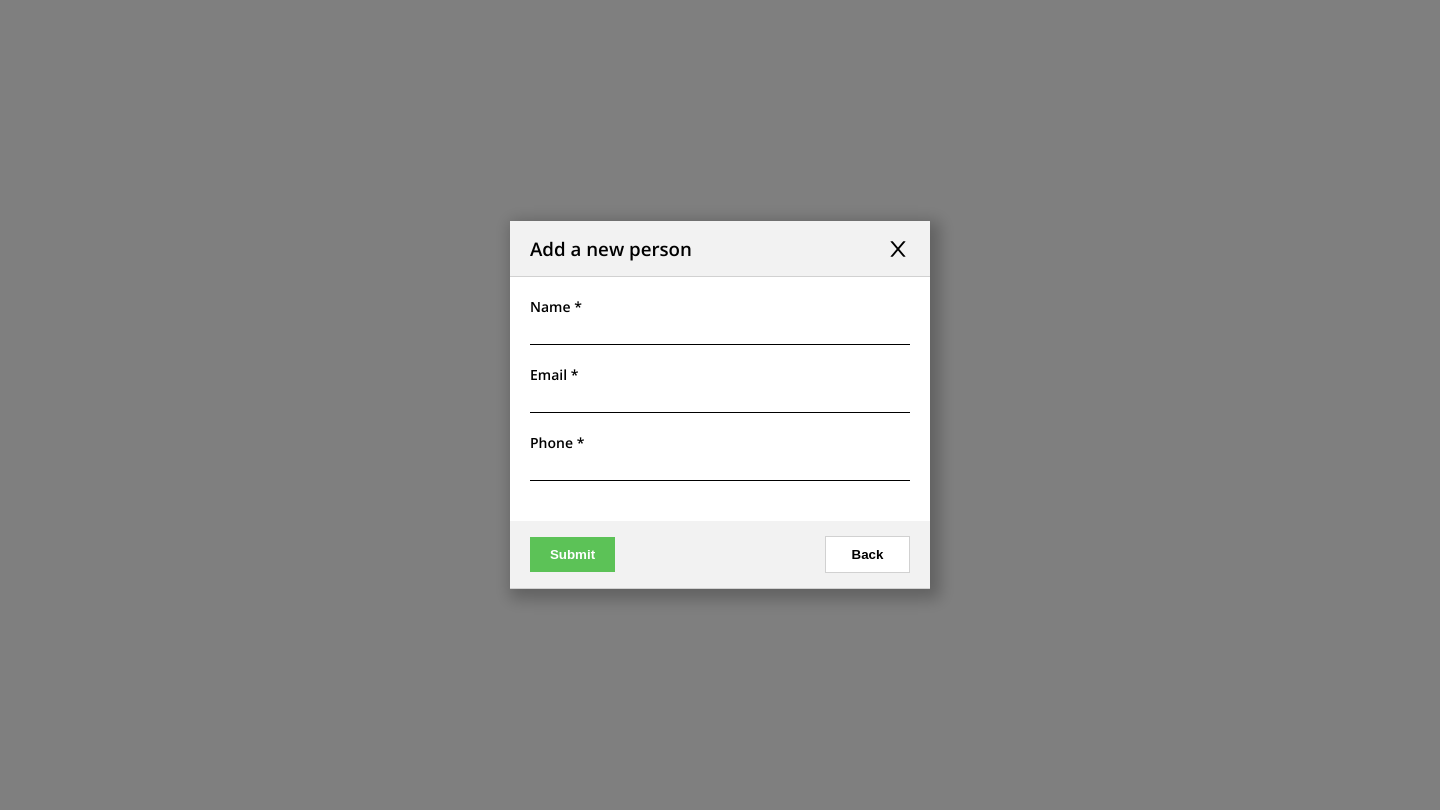
it: AddPersonModal › should have correct values
The width and height of the screenshot is (1440, 810).
In the field labelled "Name *": [720, 330] box [530, 316, 910, 345], type "John Doe"
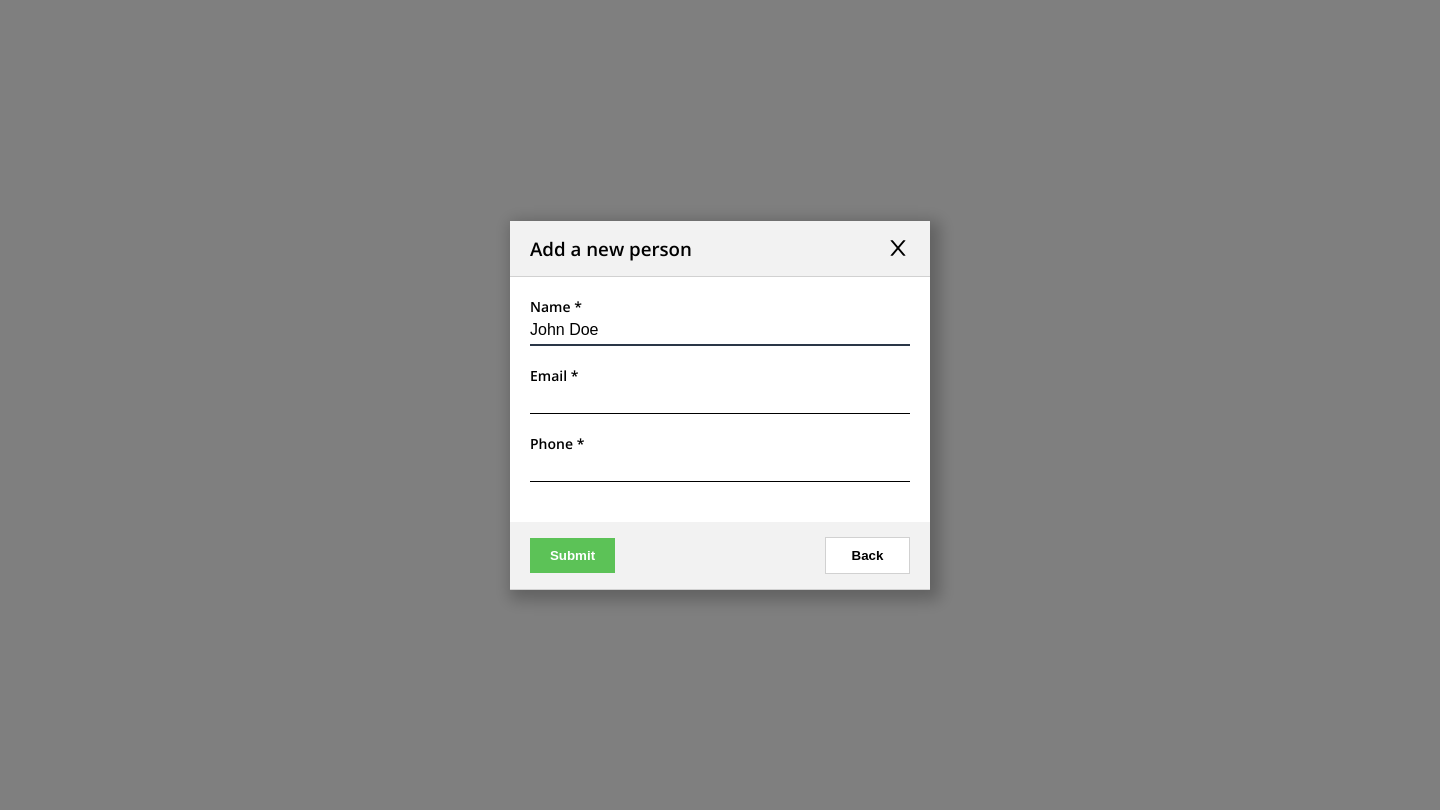
In the field labelled "Email *": [720, 399] box [530, 384, 910, 414], type "johndoe@email.com"
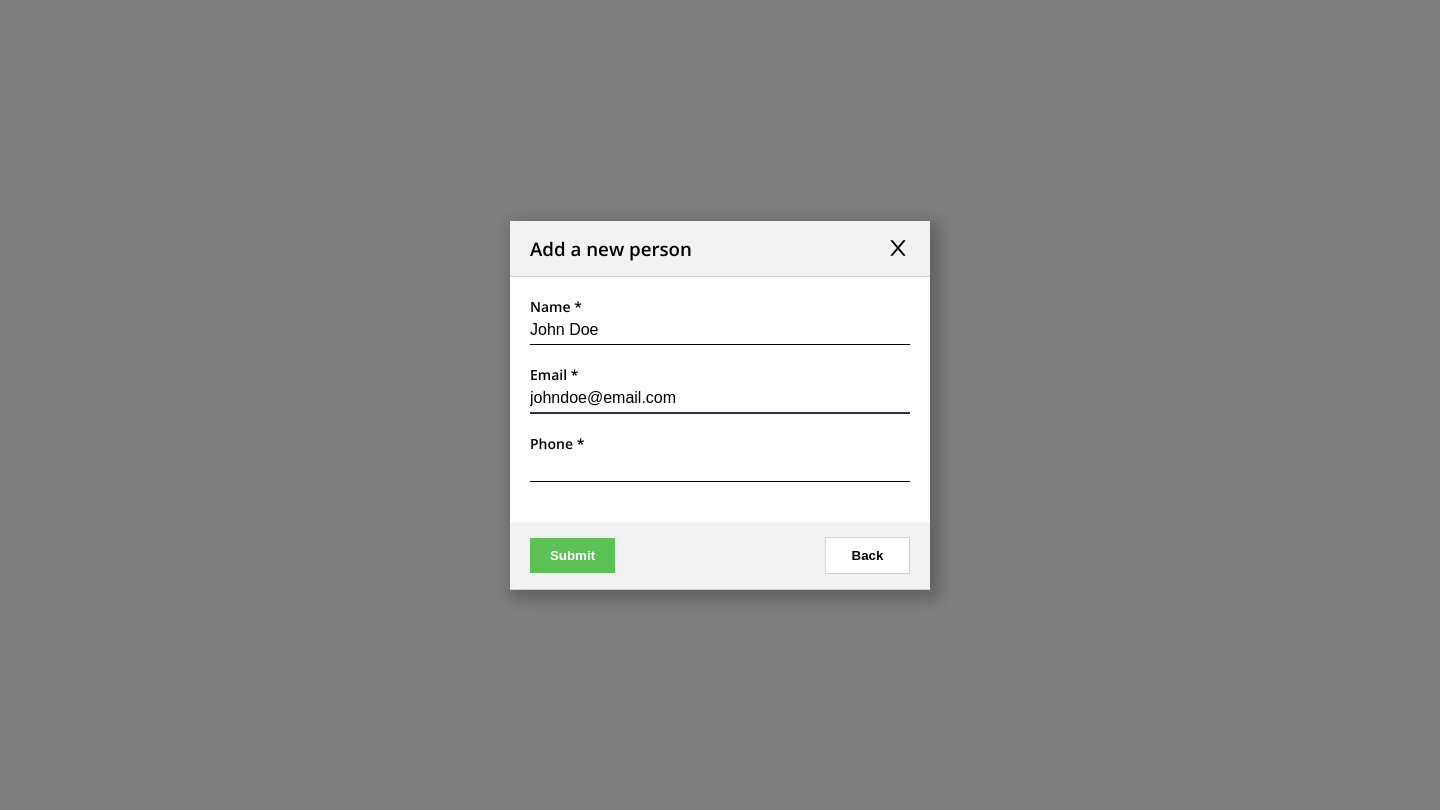
In the field labelled "Phone *": [720, 467] box [530, 452, 910, 482], type "1112223333"
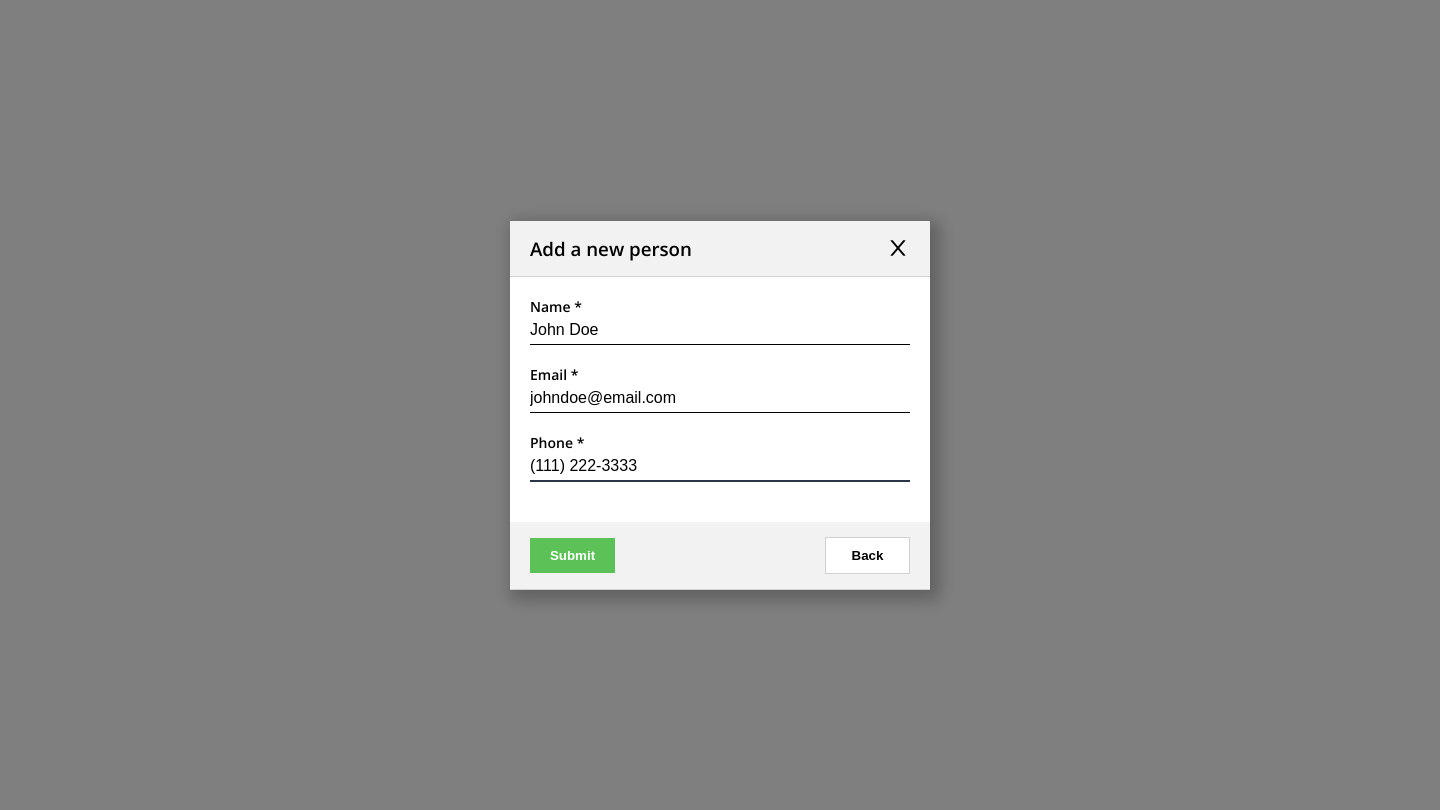
Expected: the field labelled "Phone *" holds "(111) 222-3333", [530, 452, 910, 482]
